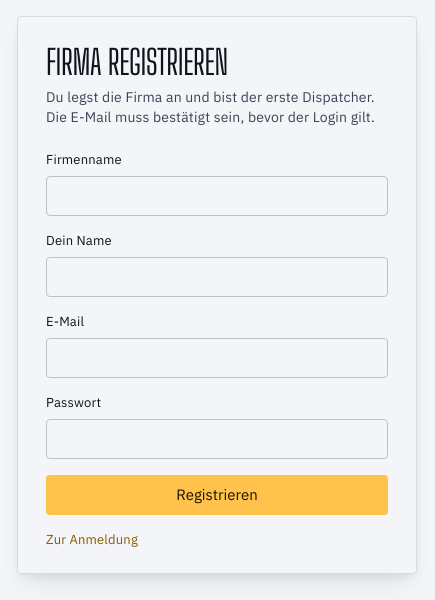
Test: register page › shows the mail message and does not open a session
Type "Nord Logistik" into the field labelled "Firmenname". click: (217, 196)
box: [46, 176, 388, 216]
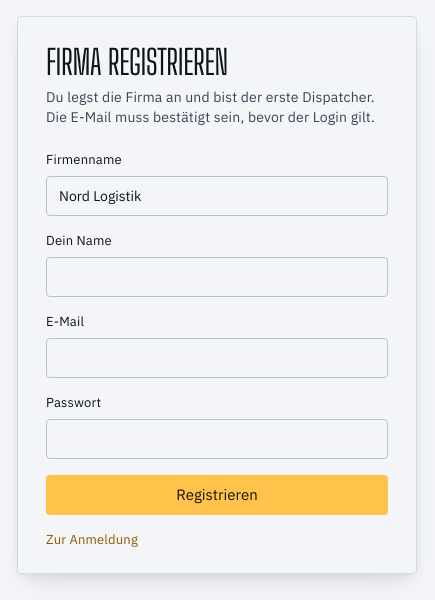
Type "Ada" into the field labelled "Dein Name". click: (217, 277)
box: [46, 257, 388, 297]
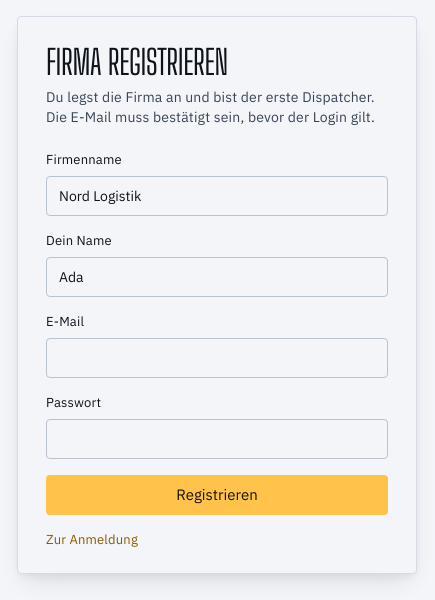
Type "ada@example.com" into the field labelled "E-Mail". click: (217, 358)
box: [46, 338, 388, 378]
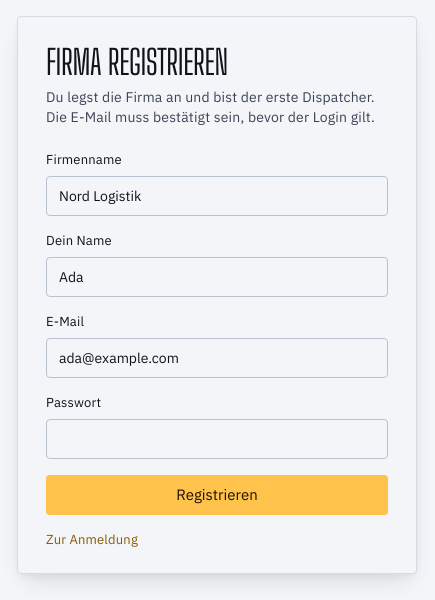
Type "development-only-password" into the password field labelled "Passwort". click: (217, 439)
box: [46, 419, 388, 459]
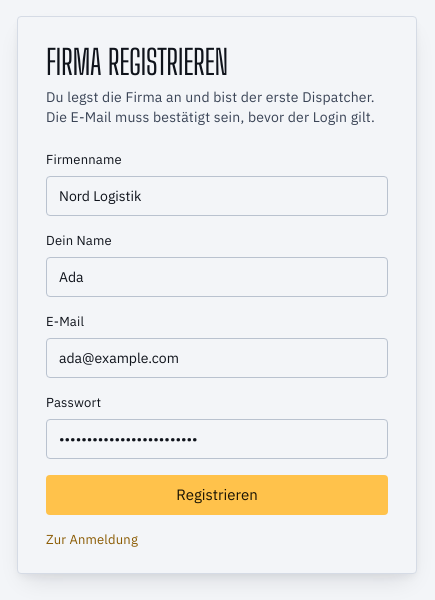
Submit the form "Registrieren", box [46, 151, 388, 515]
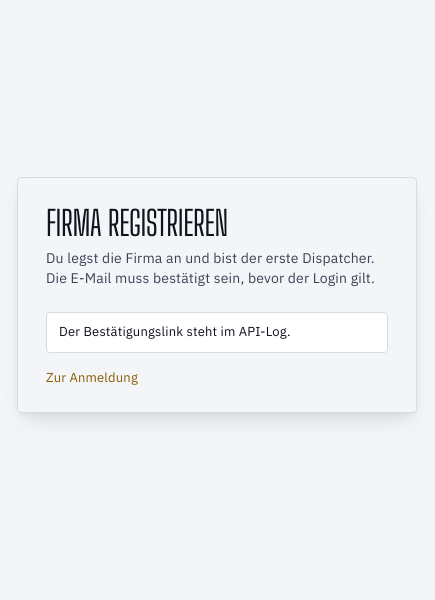
Expected: the text "Der Bestätigungslink steht im API-Log." is shown, [46, 312, 388, 353]
Expected: the label labelled "Firmenname" is gone
